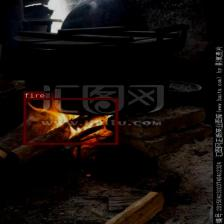fire: (23, 97, 117, 144)
